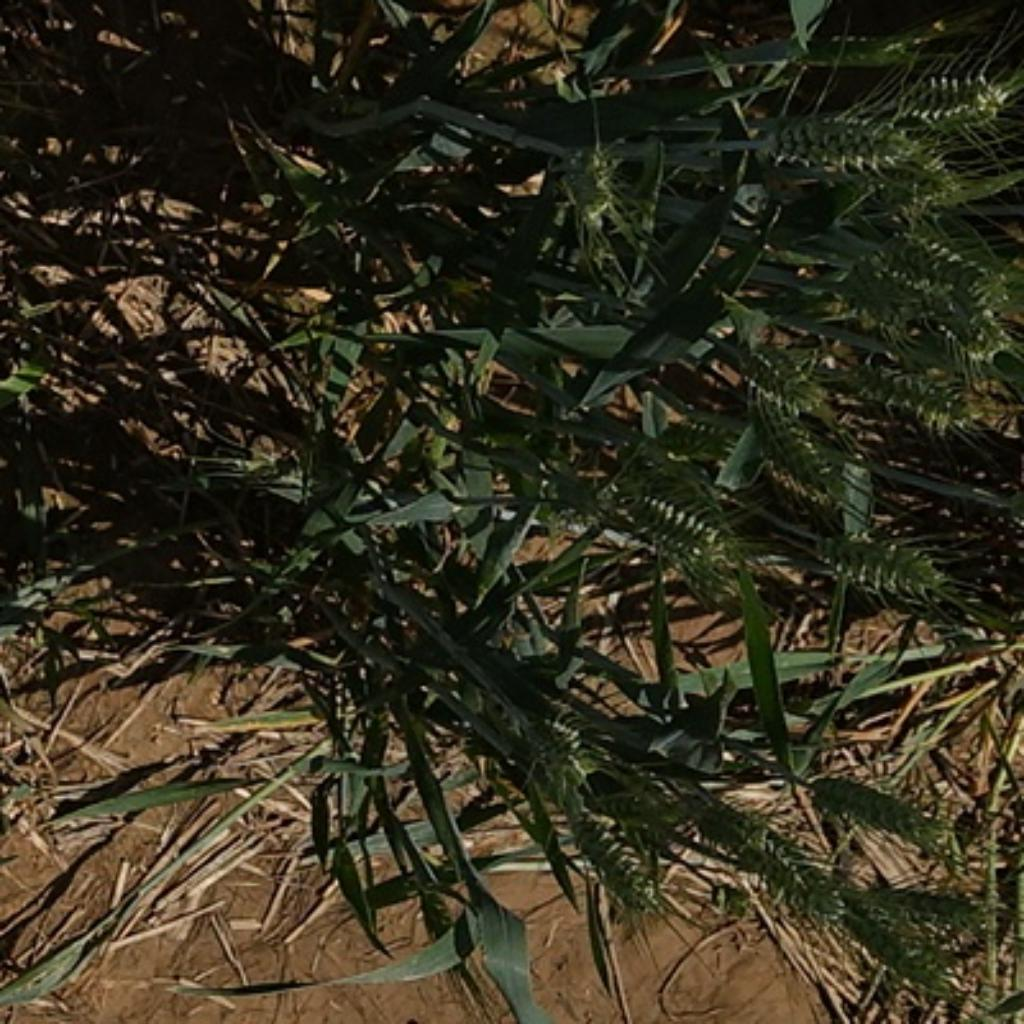0-0: (752, 94, 962, 199), (823, 895, 969, 1006), (627, 477, 758, 586), (560, 800, 666, 927), (876, 229, 1015, 323), (816, 747, 949, 844), (848, 359, 993, 440), (811, 519, 952, 601), (736, 831, 848, 934), (834, 249, 947, 343), (885, 64, 1021, 138), (584, 776, 690, 870), (747, 409, 847, 508), (847, 877, 992, 942), (666, 782, 769, 863), (741, 337, 833, 419), (550, 144, 632, 236), (511, 706, 598, 781), (635, 411, 748, 465), (935, 292, 1011, 372)
